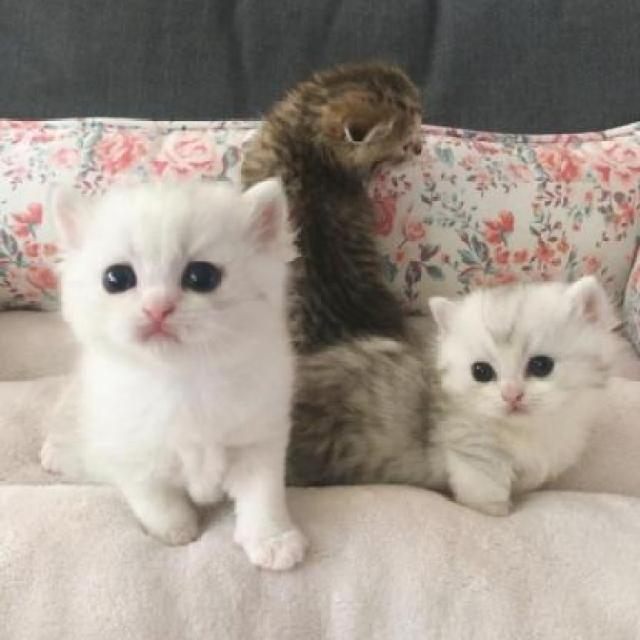cat: (40, 165, 297, 572), (298, 258, 612, 528), (235, 59, 420, 328)
